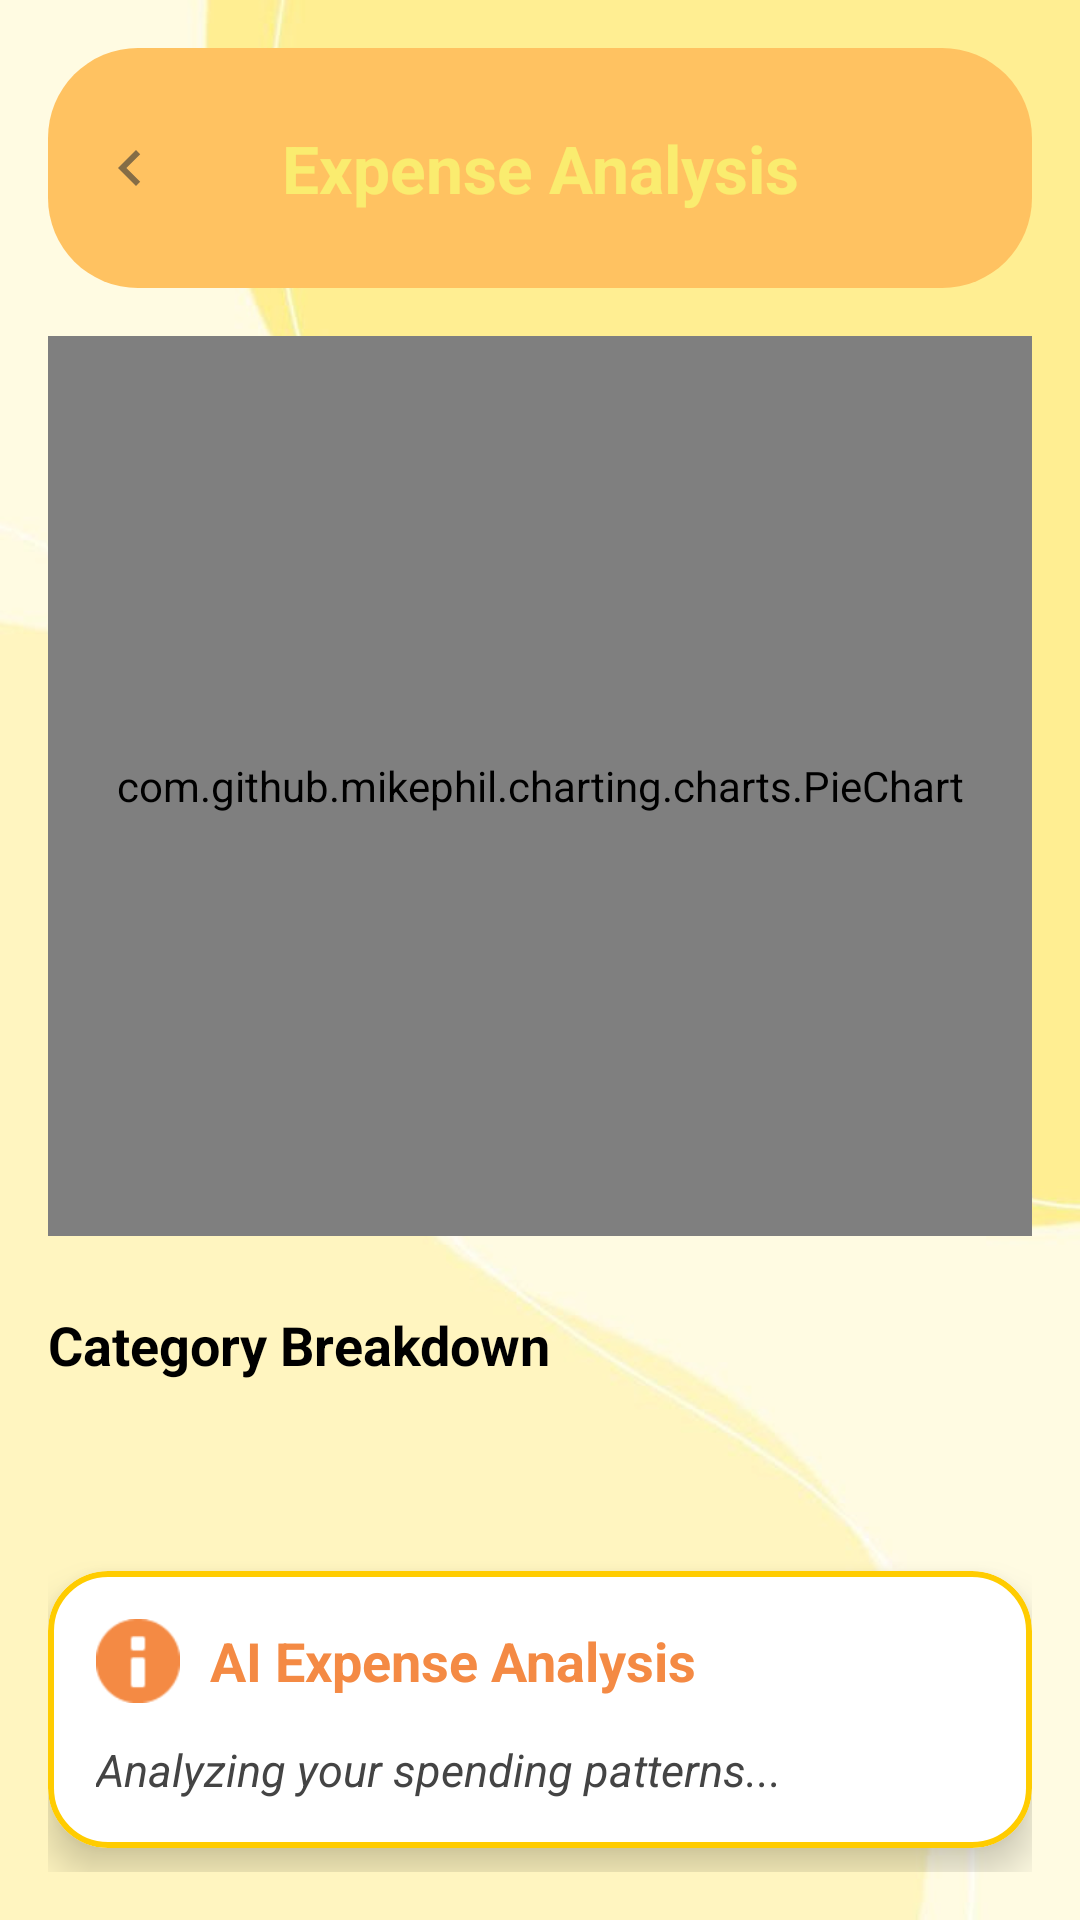

Point at icon controls on the screen. Image size 1080×1920, points as (x,y).
backarrow name: (129,168)
info: (138,1661)
